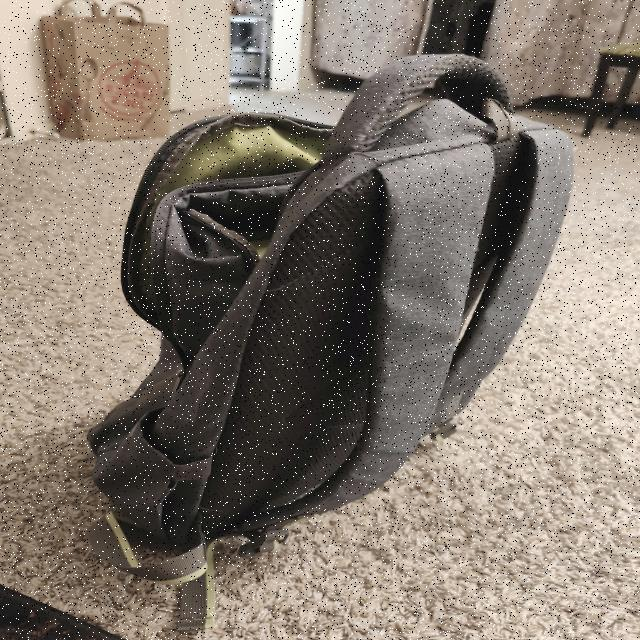bag: (118, 65, 508, 565)
